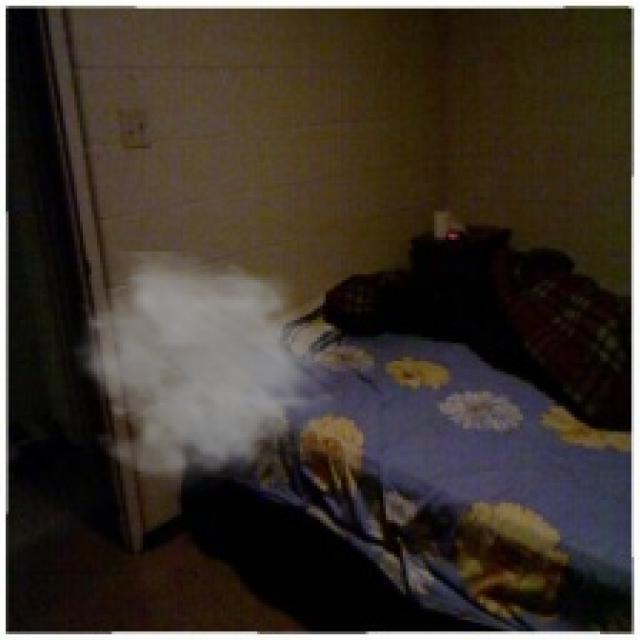Smoke: (68, 252, 346, 497)
